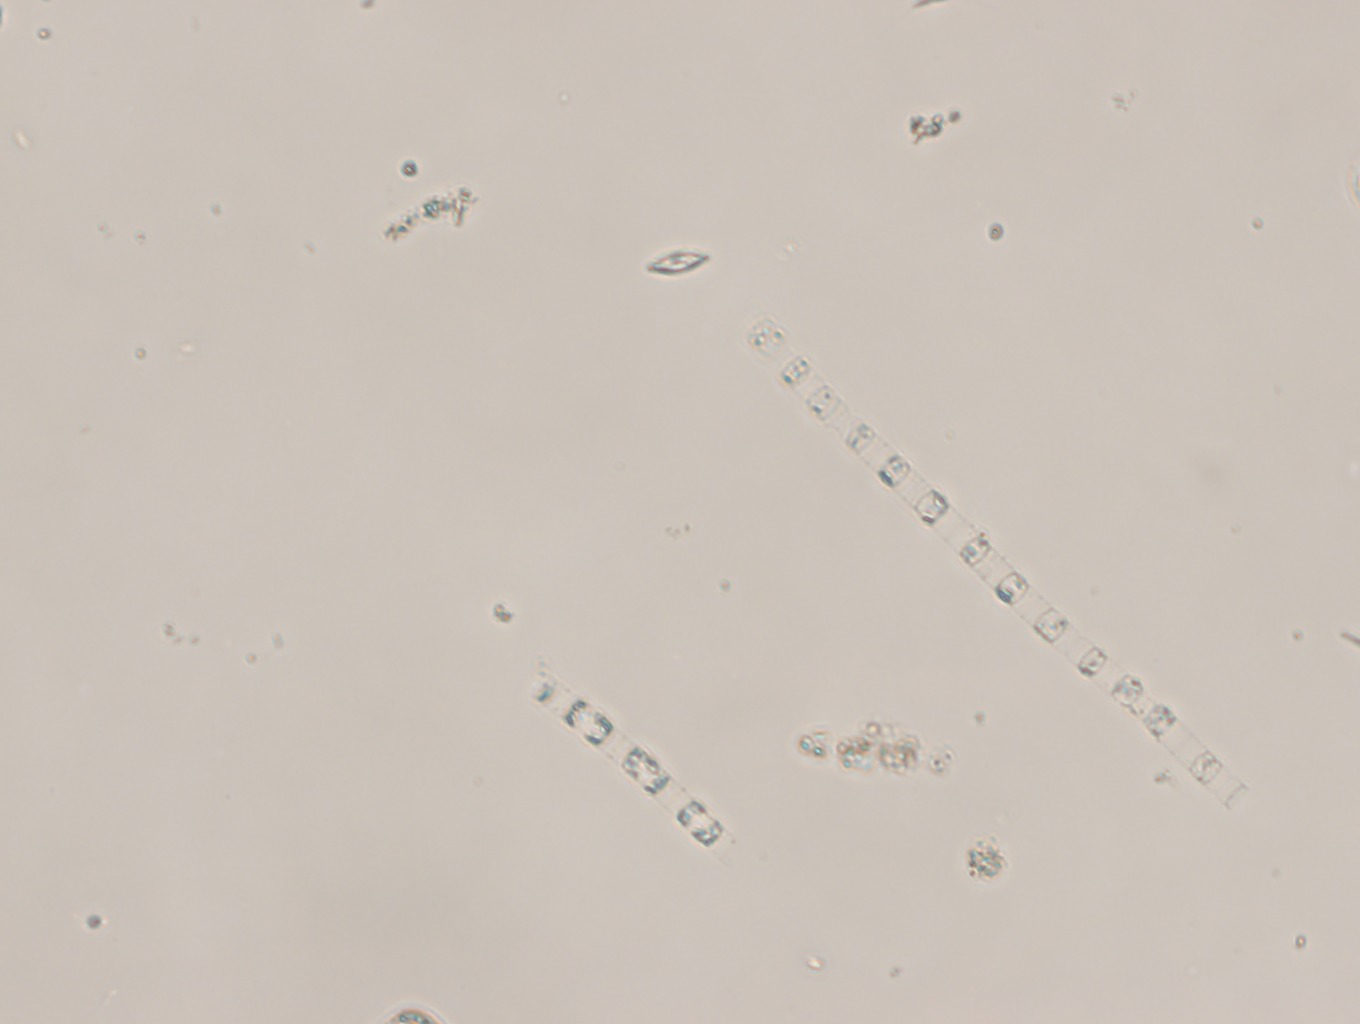skeletonema: (745, 315, 1255, 817), (522, 666, 733, 857)
